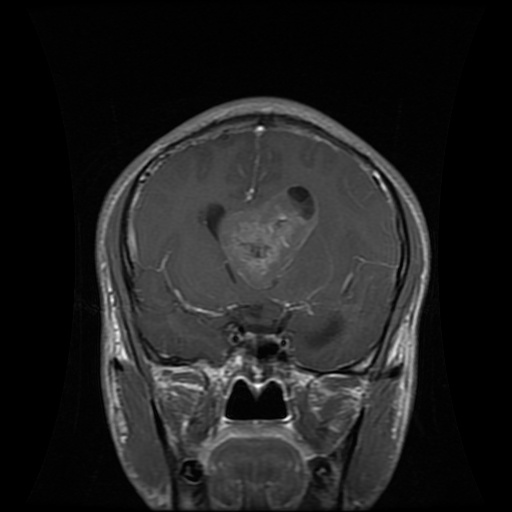glioma: (200, 183, 320, 289)
